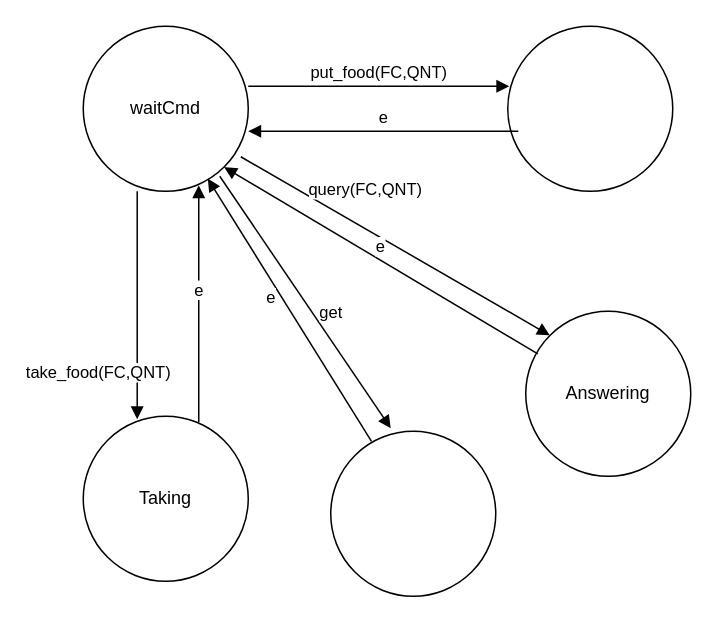
Some shapes in this 719 by 623 pixel diagram are drawn without their labels. The centre of each missing label's shape, as x and y in pixels:
gettingContent: the point at 412,513
Putting: the point at 589,108
